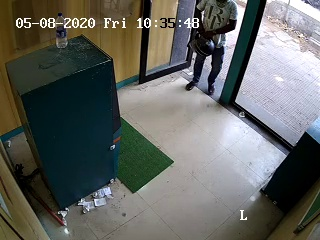open: (137, 4, 261, 117)
